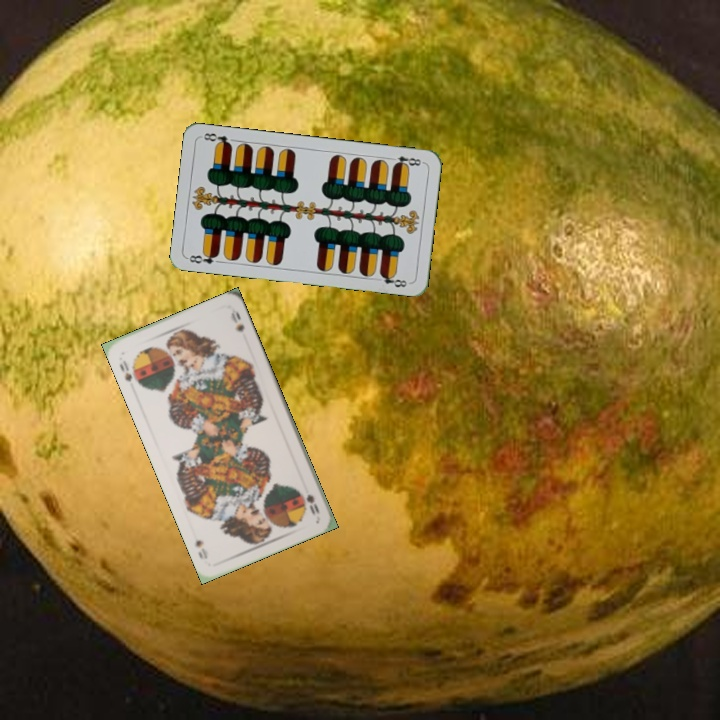E8: (385, 152, 426, 170), (184, 248, 222, 266)
SO: (302, 490, 322, 519), (115, 356, 135, 384)
